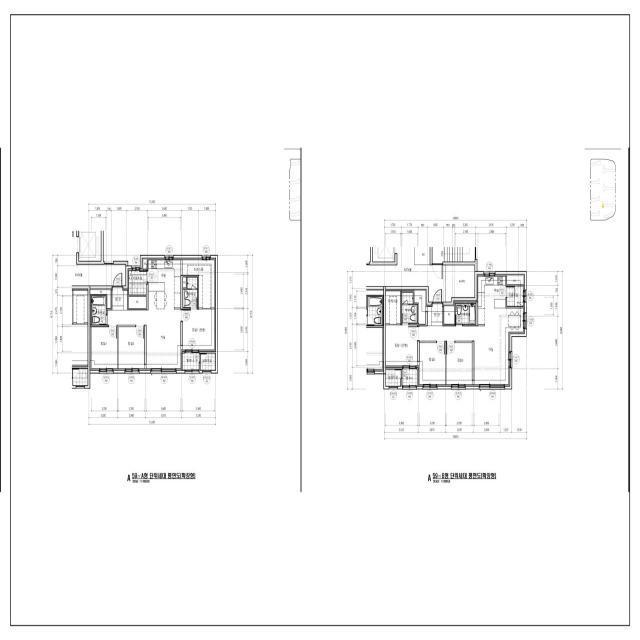space_balconi: (183, 353, 199, 370), (402, 369, 417, 385)
space_bedroom: (183, 309, 215, 351), (386, 325, 417, 367), (417, 343, 445, 387), (90, 327, 117, 370), (446, 343, 472, 387), (119, 327, 144, 370)
space_dressroom: (183, 258, 215, 308), (386, 290, 400, 324)
space_elevator: (79, 231, 101, 261), (428, 304, 443, 326), (373, 247, 395, 262)
space_elevator_hall: (366, 247, 475, 302), (72, 265, 126, 286)
space_front: (112, 287, 127, 310)
space_kitchen: (477, 274, 525, 334), (148, 258, 181, 309)
space_living_room: (418, 326, 510, 386), (108, 309, 182, 370)
space_multipurpose_space: (128, 269, 147, 295), (507, 286, 525, 306)
space_other: (414, 289, 428, 324), (90, 289, 111, 308), (415, 247, 430, 265), (444, 305, 454, 324), (129, 297, 146, 308), (507, 275, 524, 284), (142, 258, 147, 269), (183, 277, 186, 288)
space_outdoor_room: (386, 369, 401, 386), (201, 353, 215, 370)
space_staircase: (432, 247, 475, 264)
space_toilet: (402, 293, 417, 323), (183, 277, 197, 307), (92, 296, 106, 325), (456, 304, 476, 324)
